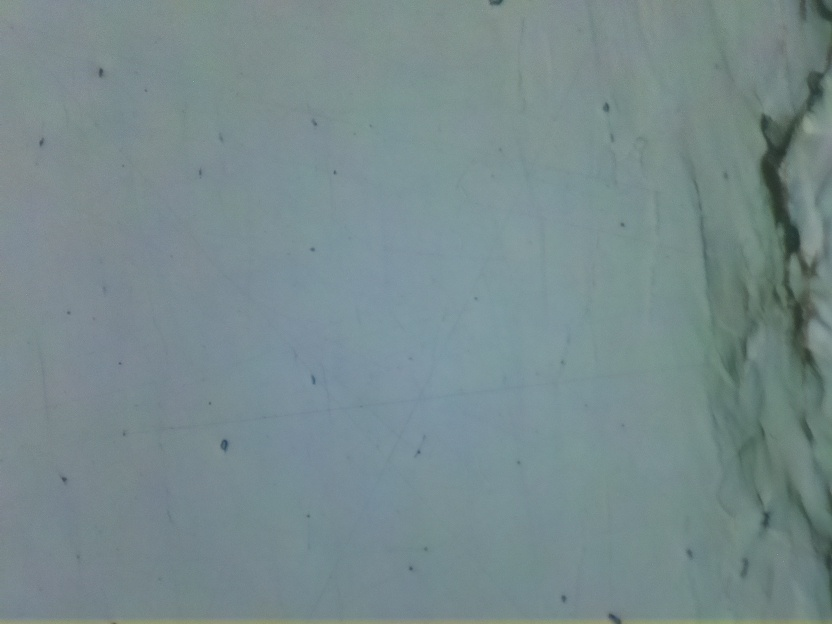crack: (752, 68, 831, 398)
